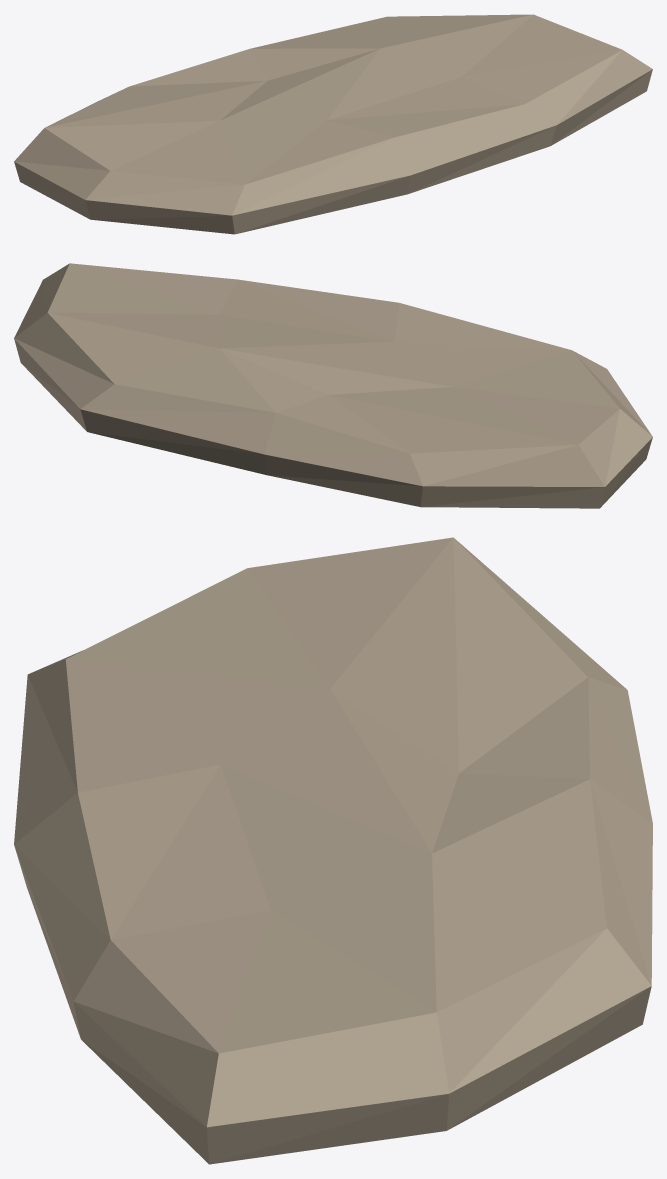
Rendered from stage0_path_stone_b.glb.
3 views of the same model, one above another, from view 1: azimuth 30°, elevation 25°; view 2: azimuth 150°, elevation 25°; view 3: azimuth 270°, elevation 25° (orthographic). The views are drawn at different scales.
Parts seen in each view (by area): view 1: stone-slab; view 2: stone-slab; view 3: stone-slab.
Boxes of the visible parts, x1,y1,x2,y2 form: stone-slab: [14, 14, 652, 234]; stone-slab: [14, 263, 652, 508]; stone-slab: [14, 537, 652, 1164].
Size of the model in its own units: 0.62 by 0.055 by 0.3.
